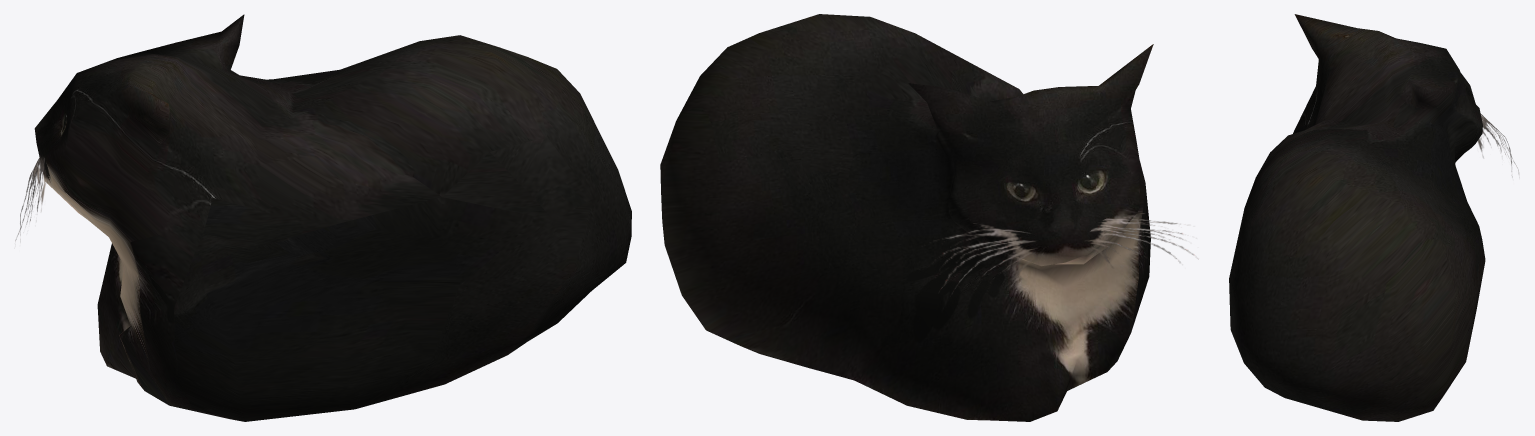
The model's file is dingus.glb.
3 views of the same model, side by side, from view 1: azimuth 30°, elevation 25°; view 2: azimuth 150°, elevation 25°; view 3: azimuth 270°, elevation 25° (orthographic). The views are drawn at different scales.
Visible parts, largest first — view 1: dingus; view 2: dingus; view 3: dingus.
Boxes of the visible parts, bbox=[...] form: dingus: bbox=[15, 14, 631, 421]; dingus: bbox=[660, 14, 1197, 421]; dingus: bbox=[1229, 14, 1518, 421].
Size of the model in its own units: 1.66 by 0.9607 by 0.9373.
Materials: 2 (2 with a texture image).
